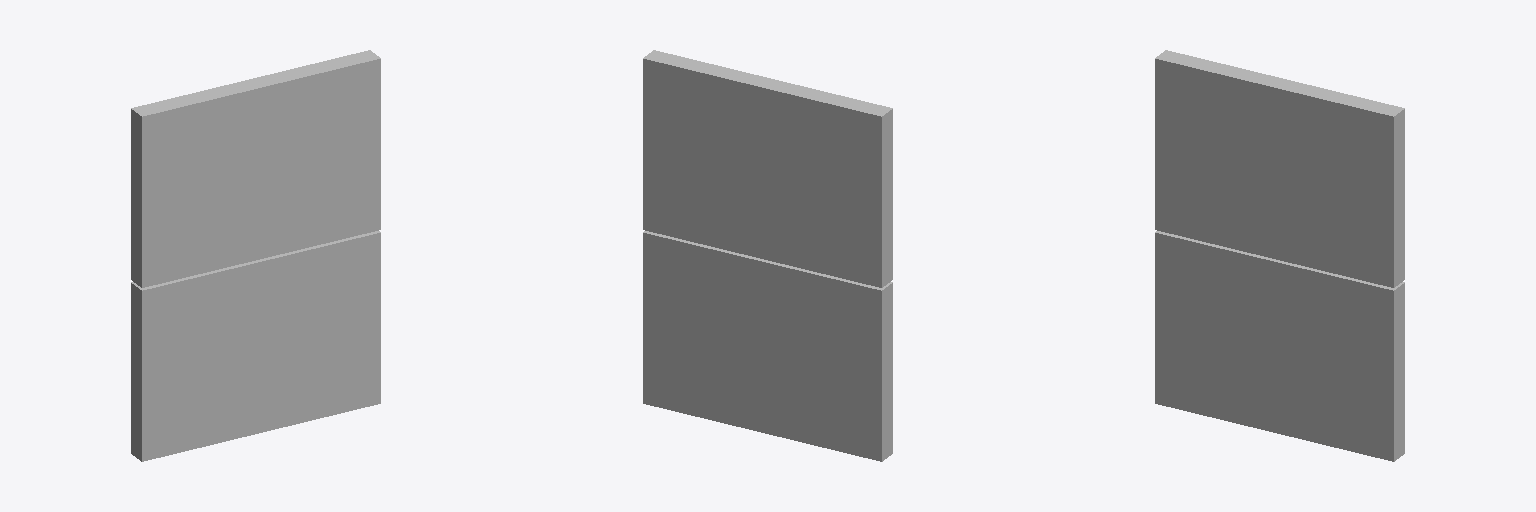
File: boxsnes.obj
The picture shows the model from 3 angles: view 1: azimuth 30°, elevation 25°; view 2: azimuth 150°, elevation 25°; view 3: azimuth 330°, elevation 25°; orthographic projection.
Visible parts, largest first — view 1: boxsnes_boxgb_box.001; view 2: boxsnes_boxgb_box.001; view 3: boxsnes_boxgb_box.001.
Boxes of the visible parts, box(x1,y1,x2,y2) form: boxsnes_boxgb_box.001: box(131, 50, 380, 461); boxsnes_boxgb_box.001: box(643, 50, 892, 461); boxsnes_boxgb_box.001: box(1155, 50, 1404, 461).
Size of the model in its own units: 2.26 by 3.11 by 0.1872.